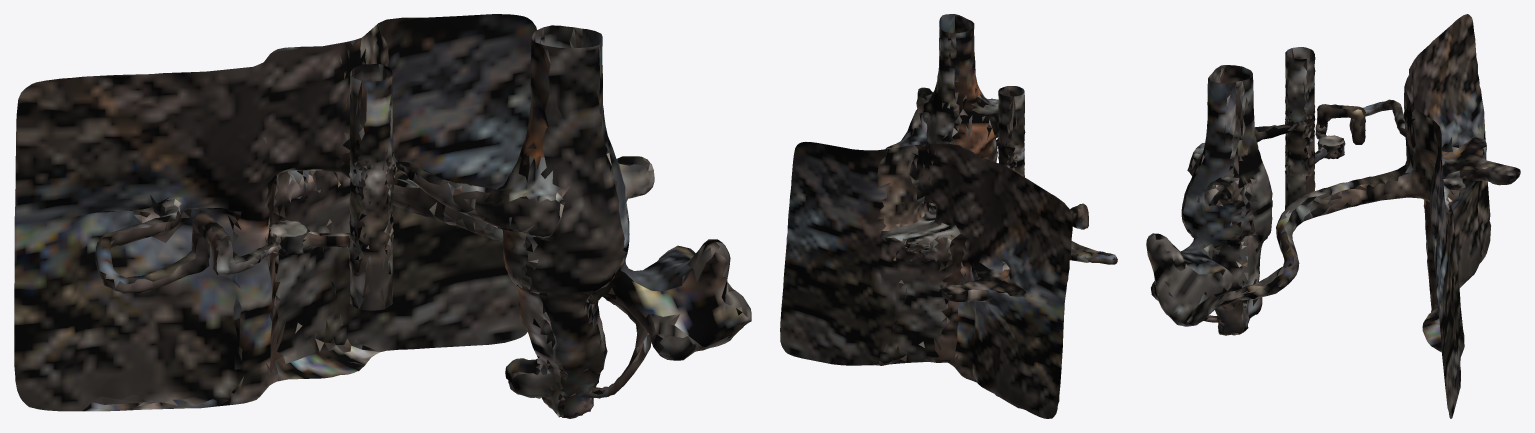
The model's file is CaveTest_11_30.fbx.
3 renders of one model, left to right at view 1: azimuth 30°, elevation 25°; view 2: azimuth 150°, elevation 25°; view 3: azimuth 270°, elevation 25°, orthographic. The views are drawn at different scales.
Parts seen in each view (by area): view 1: CaveBase_decimated, CaveBase_decimated.001; view 2: CaveBase_decimated, CaveBase_decimated.001; view 3: CaveBase_decimated, CaveBase_decimated.001.
Boxes of the visible parts, x1,y1,x2,y2 form: CaveBase_decimated: [14, 14, 751, 418]; CaveBase_decimated.001: [95, 212, 255, 293]; CaveBase_decimated: [780, 14, 1072, 418]; CaveBase_decimated.001: [1070, 203, 1117, 264]; CaveBase_decimated: [1146, 14, 1520, 418]; CaveBase_decimated.001: [1315, 99, 1404, 144].
Bounding box in the file's own units: 62120 × 52326 × 57602.
